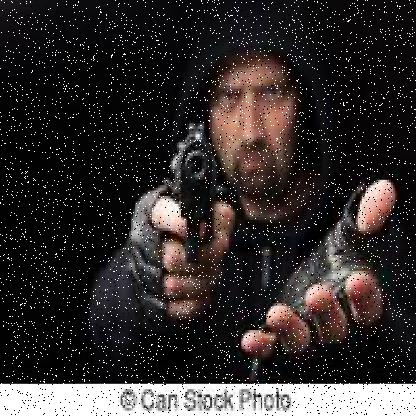pistol: (168, 115, 222, 263)
